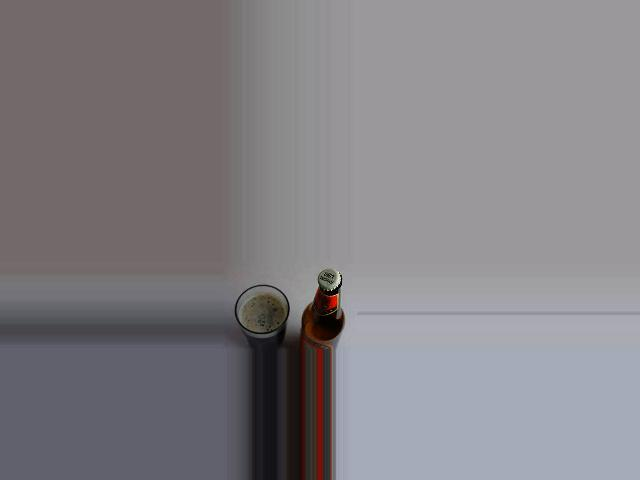beer: (299, 269, 344, 350)
